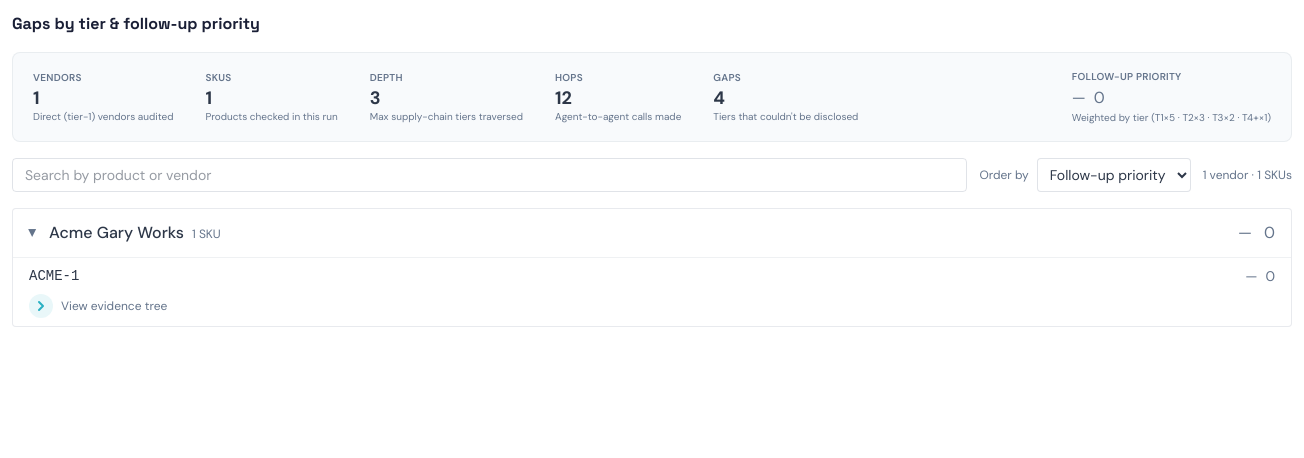
Scenario: TierGapGrid per-SKU evidence tree accordion › expands a single SKU evidence tree on click and collapses it again
Check: the text "depth 1" is not shown
Click the button "View evidence tree" at (114, 306), box [13,294,1291,326]
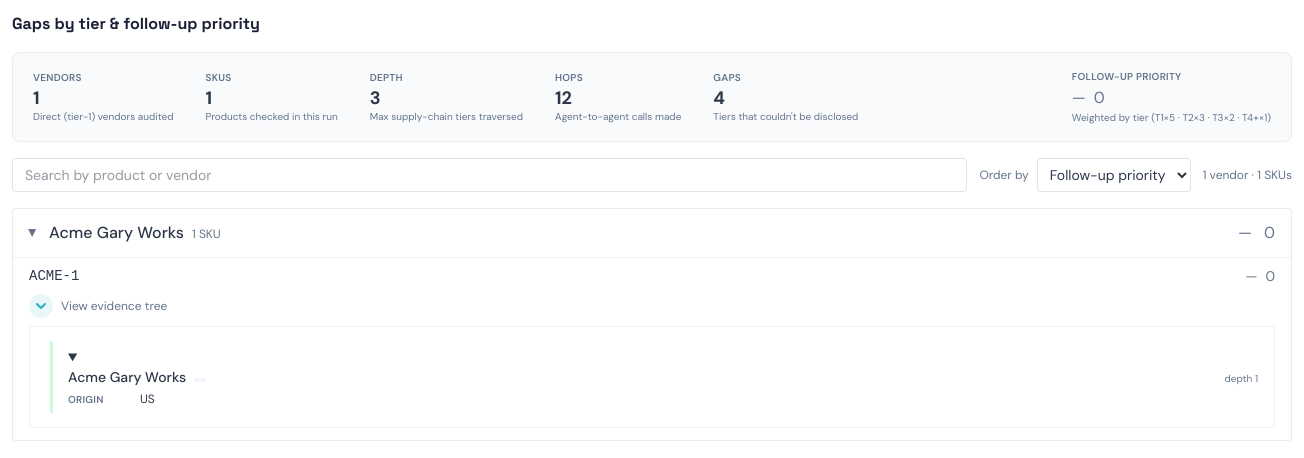
Check: the button "View evidence tree" is expanded
Check: the text "depth 1" is shown, box [1224,372,1258,386]
Click the button "View evidence tree" at (114, 306), box [13,294,1291,326]
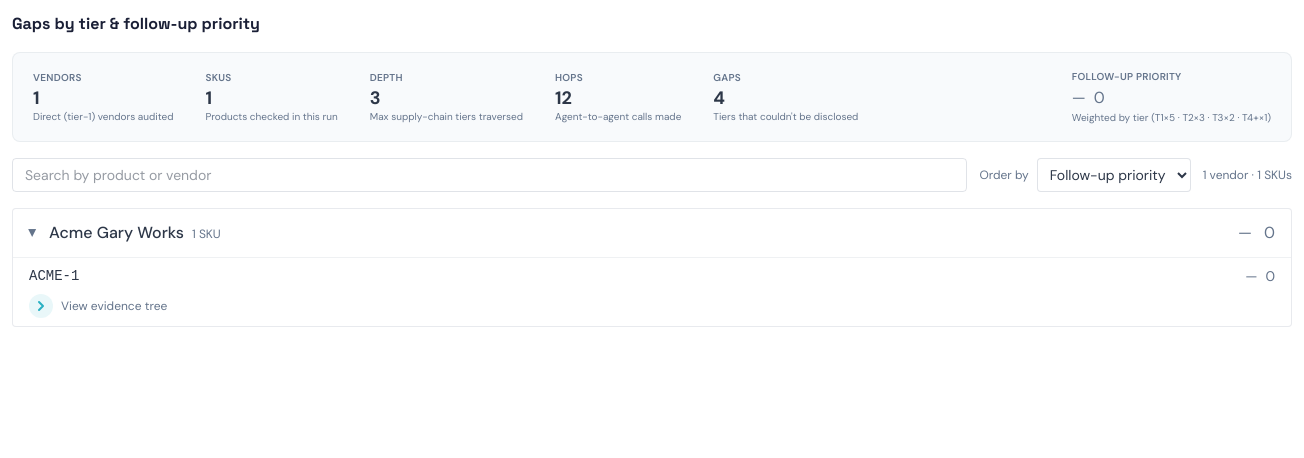
Check: the heading "depth 1" is gone
